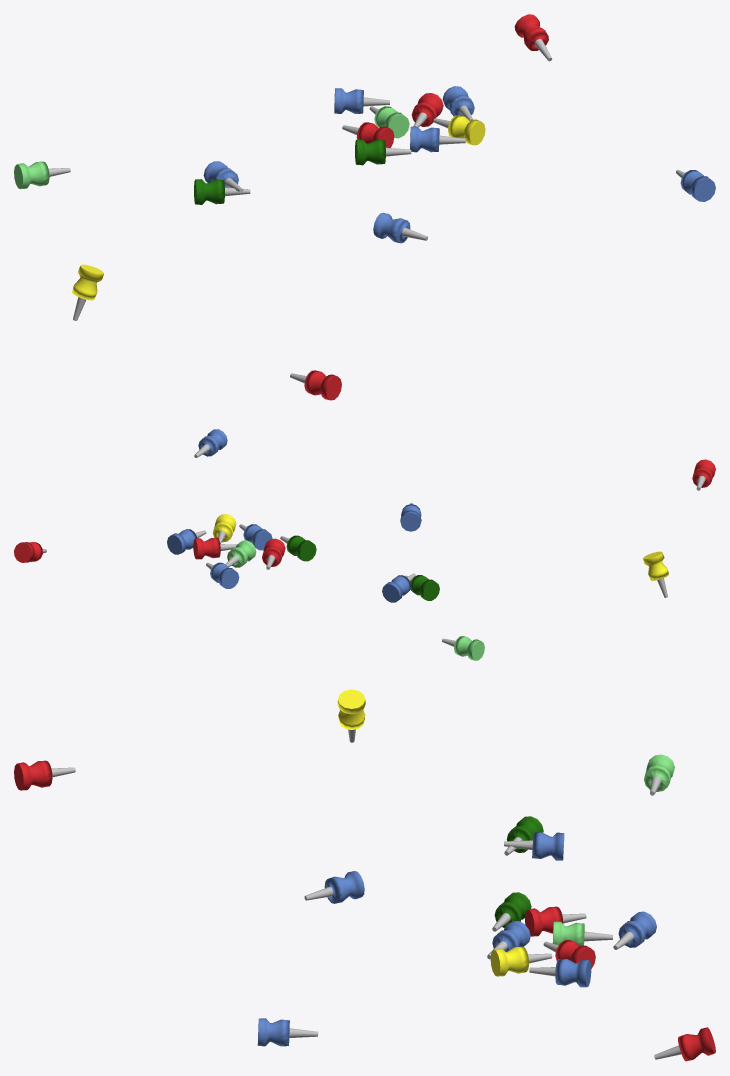
The model's file is pin.fbx.
3 views of the same model, one above another, from view 1: azimuth 30°, elevation 25°; view 2: azimuth 150°, elevation 25°; view 3: azimuth 270°, elevation 25° (orthographic). The views are drawn at different scales.
Visible parts, largest first — view 1: pin.011, pin.014, pin.016, pin.015, pin.009, pin.005, pin.008, pin.006, pin.001, pin.013, pin.010, pin.003 (+4 smaller); view 2: pin.014, pin.015, pin.003, pin.004, pin.008, pin.010, pin.012, pin.001, pin.002, pin.013, pin.009, pin.016 (+4 smaller); view 3: pin.011, pin.005, pin.016, pin.004, pin.009, pin.015, pin.010, pin.012, pin.001, pin.007, pin.014, pin.008 (+4 smaller).
Part boxes in pixels (x1,y1,x2,y2): pin.011: (373, 212, 427, 243); pin.014: (14, 161, 70, 189); pin.016: (290, 370, 341, 400); pin.015: (72, 264, 103, 320); pin.009: (514, 14, 551, 61); pin.005: (433, 115, 485, 145); pin.008: (355, 139, 411, 165); pin.006: (410, 126, 465, 152); pin.001: (334, 88, 389, 113); pin.013: (194, 179, 250, 204); pin.010: (676, 170, 715, 201); pin.003: (411, 93, 443, 127); pin.014: (442, 636, 484, 660); pin.015: (643, 551, 668, 597); pin.003: (193, 538, 236, 559); pin.004: (167, 529, 206, 554); pin.008: (280, 535, 316, 561); pin.010: (194, 429, 227, 457); pin.012: (382, 573, 415, 602); pin.001: (206, 562, 239, 588); pin.002: (225, 540, 256, 567); pin.013: (404, 575, 439, 600); pin.009: (14, 542, 46, 562); pin.016: (692, 459, 715, 490); pin.011: (304, 871, 364, 903); pin.005: (490, 946, 552, 976); pin.016: (14, 760, 75, 790); pin.004: (529, 959, 591, 987); pin.009: (654, 1027, 715, 1061); pin.015: (337, 689, 365, 742); pin.010: (257, 1018, 318, 1046); pin.012: (504, 832, 564, 860); pin.001: (613, 911, 656, 949); pin.007: (525, 906, 586, 936); pin.014: (644, 754, 674, 795); pin.008: (492, 892, 531, 931).
Size of the model in its own units: 7.44 by 8.37 by 0.6547.
